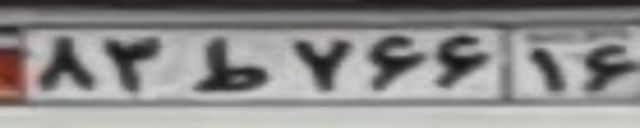1: (528, 45, 566, 92)
3: (105, 34, 165, 91)
6: (366, 35, 428, 90), (433, 33, 489, 89), (580, 42, 635, 90)
7: (292, 36, 346, 90)
8: (39, 33, 95, 90)
taa: (191, 36, 268, 92)
